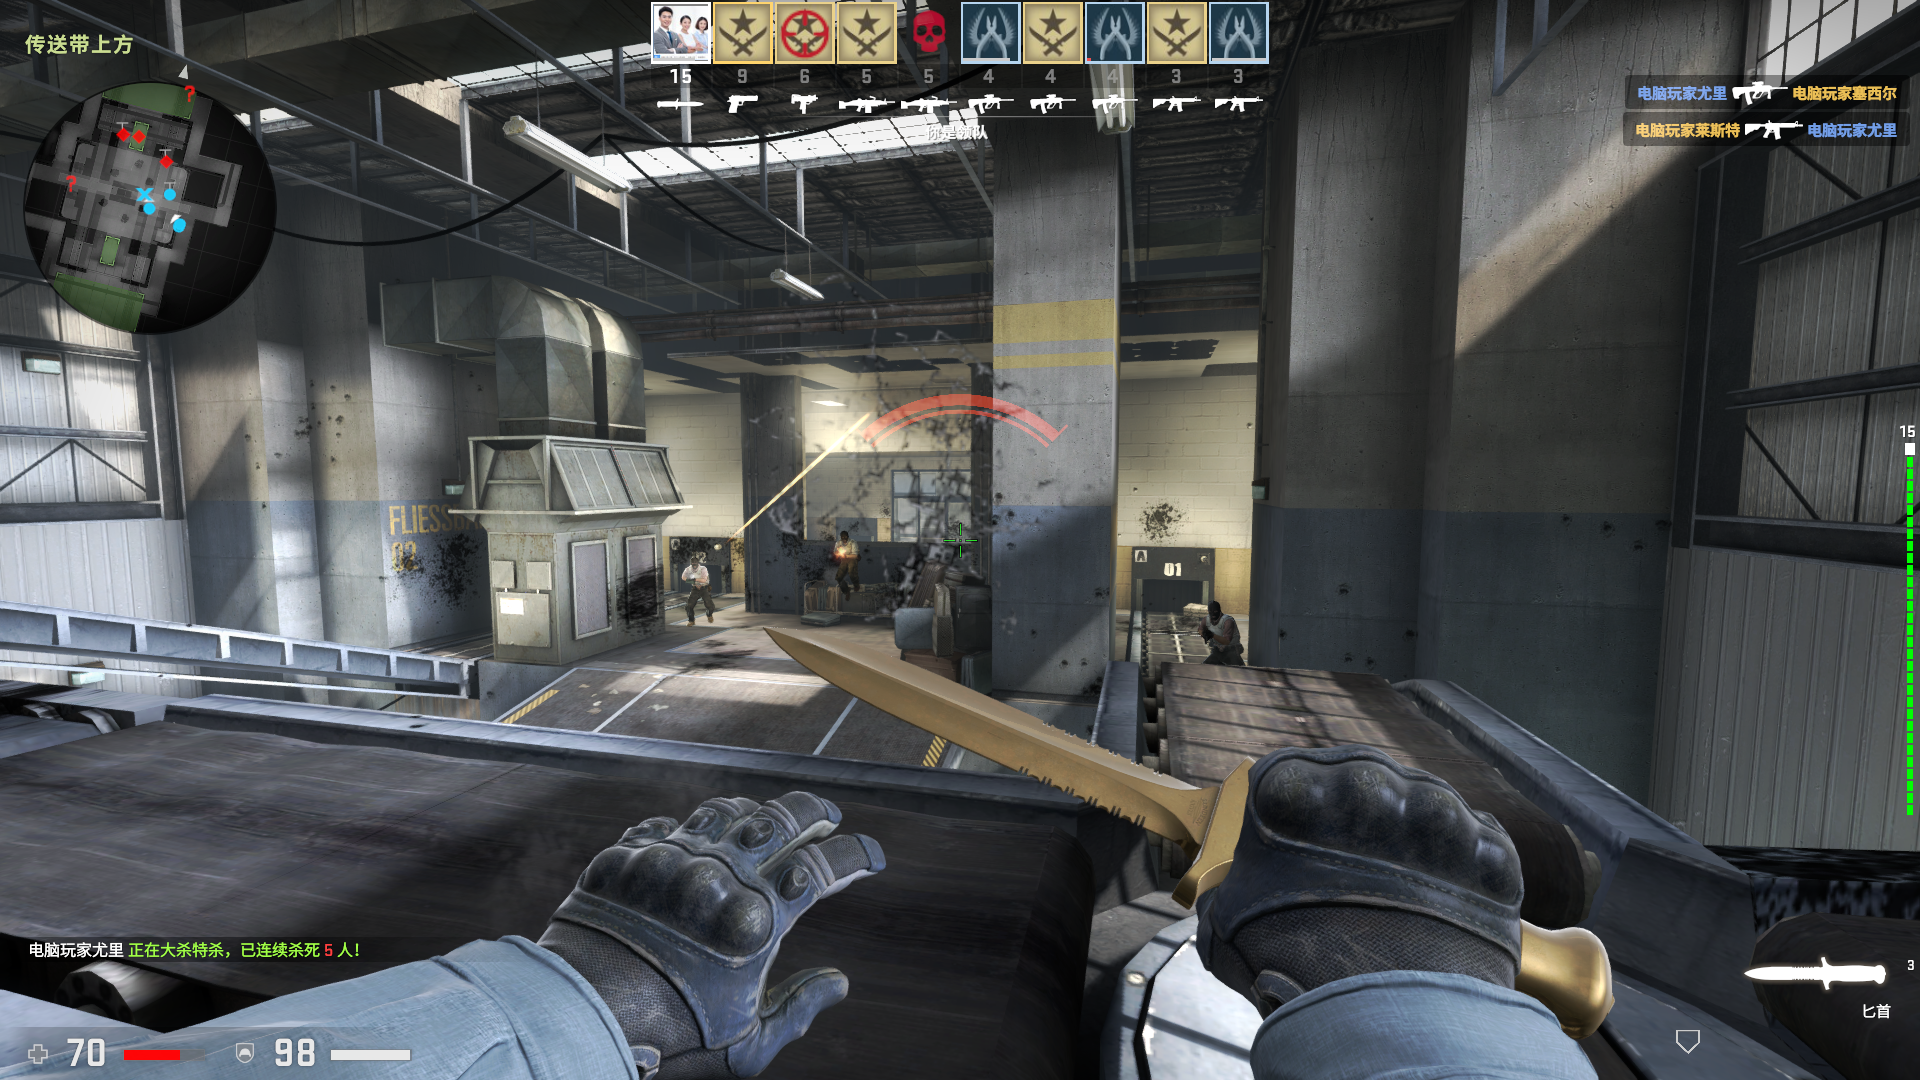person: (673, 556, 721, 628), (1201, 602, 1246, 660), (827, 528, 860, 583)
